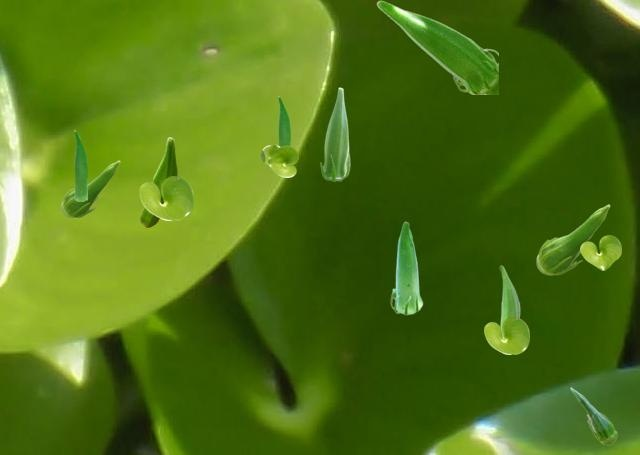okra: (376, 0, 497, 93), (536, 204, 609, 274), (61, 160, 119, 217), (140, 137, 176, 226), (390, 221, 422, 314), (320, 87, 349, 180), (570, 387, 616, 444), (499, 265, 519, 339), (74, 130, 86, 200), (278, 96, 289, 145)
